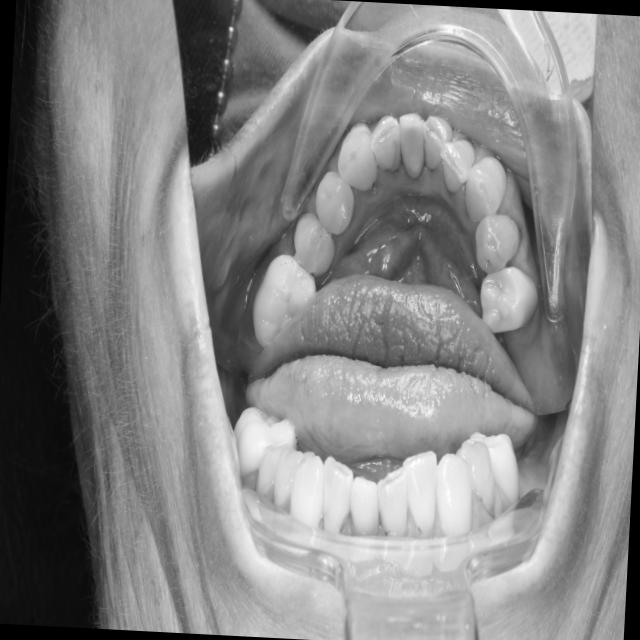tooth: (247, 243, 325, 356), (473, 251, 544, 347), (457, 138, 514, 230), (286, 202, 344, 284), (467, 203, 527, 280), (332, 115, 387, 196), (390, 97, 436, 186), (311, 160, 361, 240), (367, 103, 412, 183), (417, 99, 452, 191), (438, 126, 475, 201)
